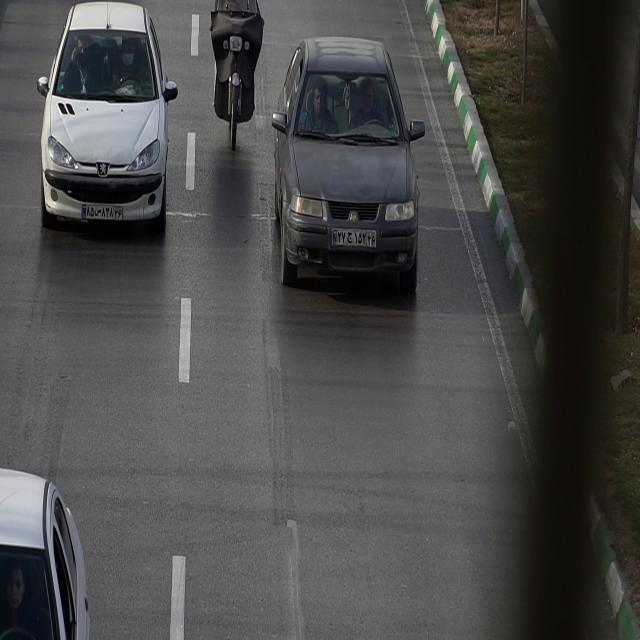car: (274, 41, 426, 290), (36, 6, 180, 232)
motor: (209, 0, 263, 147)
